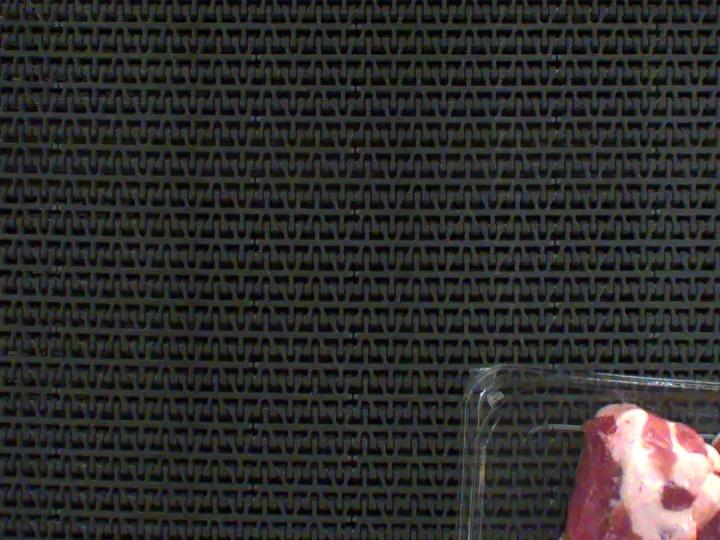packaging-error: (616, 381, 648, 419)
